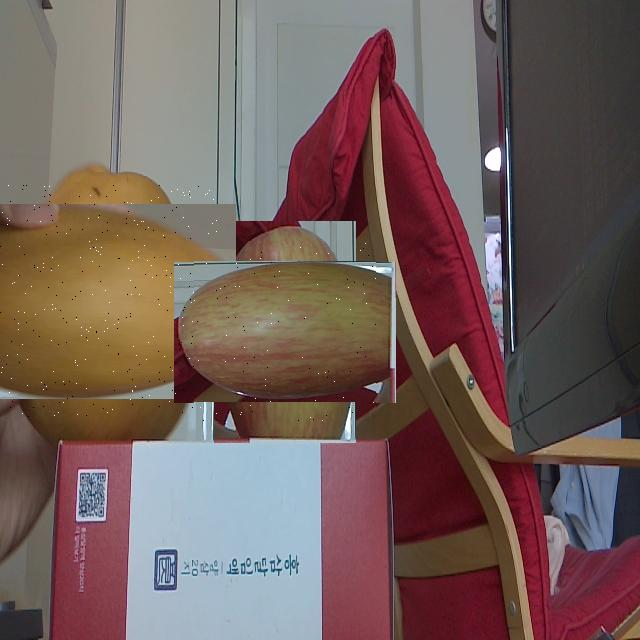apple: (195, 242, 376, 424)
pear: (0, 185, 217, 417)
